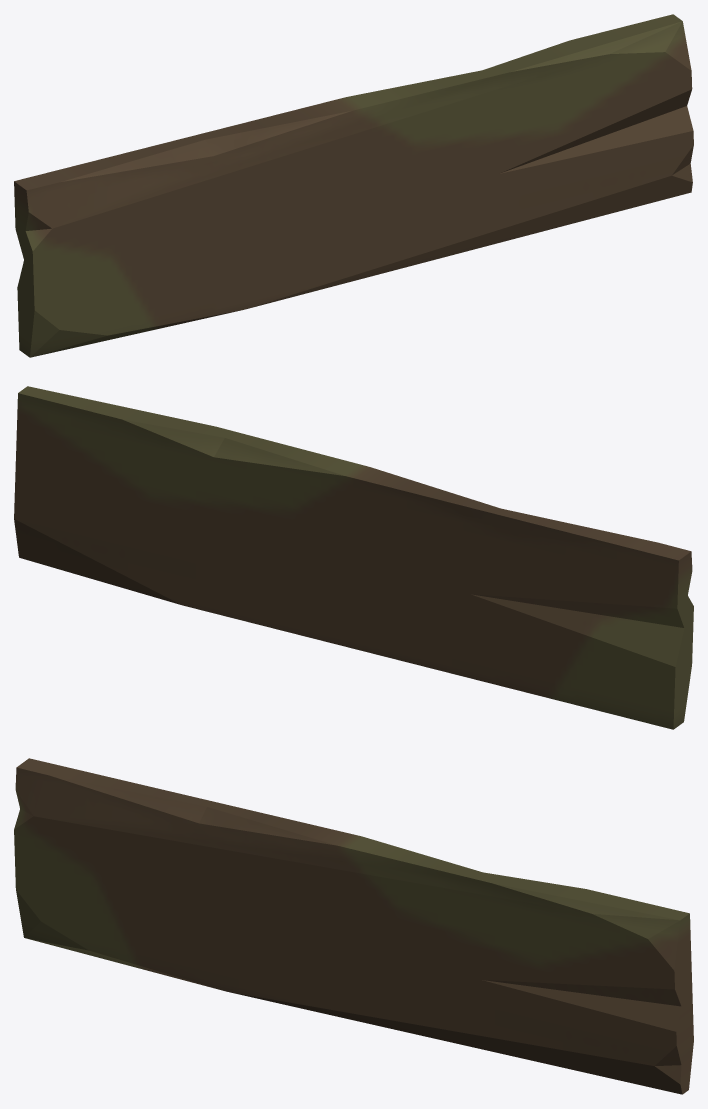
File: SM_Prop_Sign_03.fbx
The picture shows the model from 3 angles, top to bottom: view 1: azimuth 30°, elevation 25°; view 2: azimuth 150°, elevation 25°; view 3: azimuth 330°, elevation 25°; orthographic projection.
Visible parts, largest first — view 1: SM_Prop_Sign_03; view 2: SM_Prop_Sign_03; view 3: SM_Prop_Sign_03.
Part boxes in pixels (x1=…): SM_Prop_Sign_03: x1=14, y1=14, x2=693, y2=357; SM_Prop_Sign_03: x1=14, y1=386, x2=693, y2=729; SM_Prop_Sign_03: x1=14, y1=758, x2=693, y2=1094.
Bounding box in the file's own units: 145 × 36.73 × 6.38.
